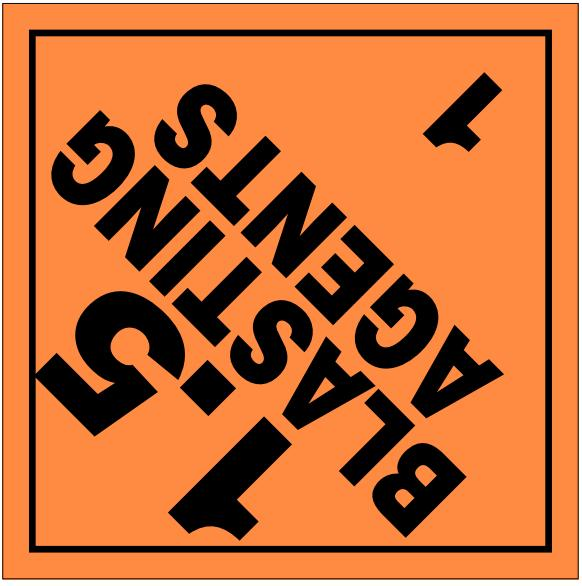explosive: (1, 1, 582, 586)
